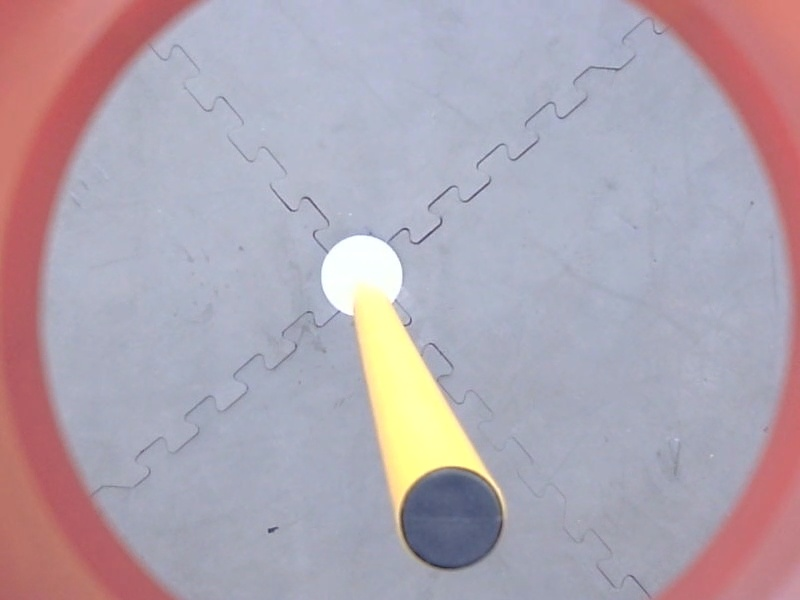tip: (391, 462, 511, 580)
